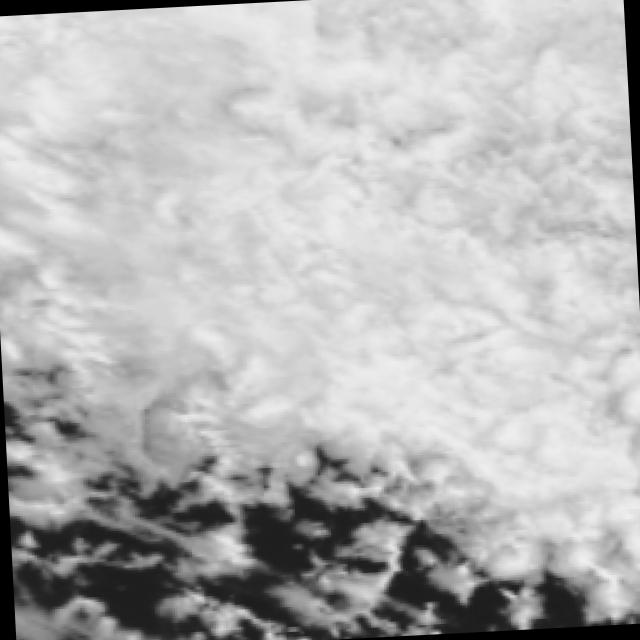CB: (110, 0, 629, 139), (158, 151, 520, 301), (0, 12, 173, 317), (476, 124, 606, 501), (330, 293, 558, 432)
